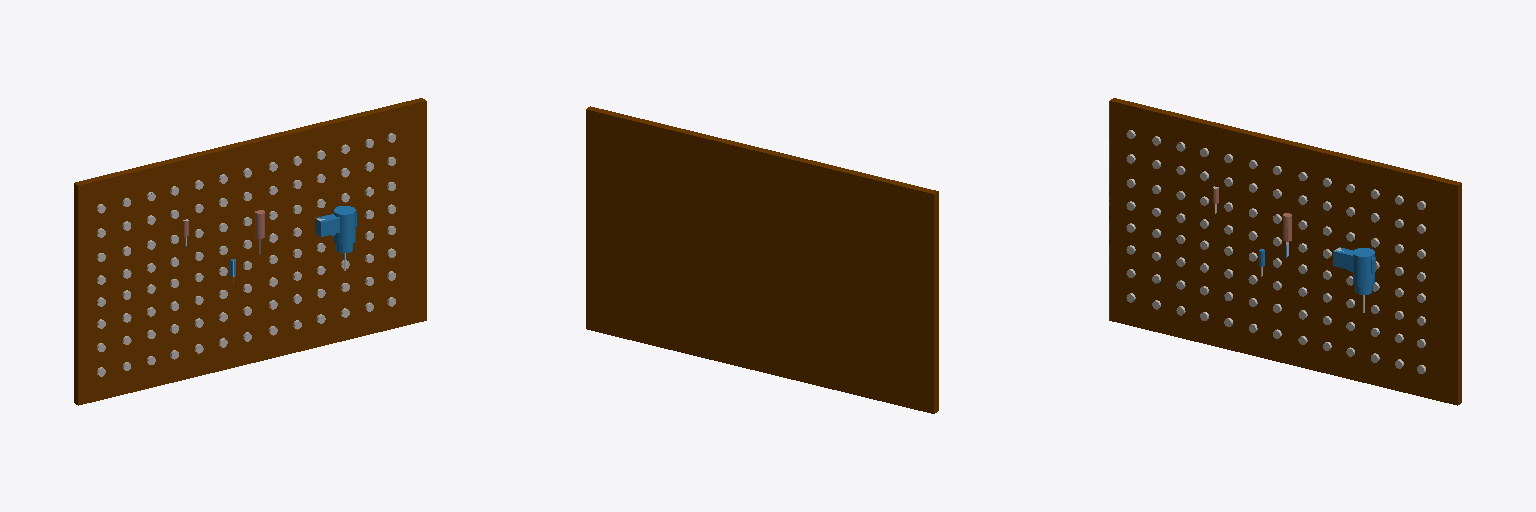
3 renders of one model, left to right at view 1: azimuth 30°, elevation 25°; view 2: azimuth 150°, elevation 25°; view 3: azimuth 330°, elevation 25°, orthographic.
Parts seen in each view (by area): view 1: Cilindro.006_Cilindro.125; view 2: Cilindro.006_Cilindro.125; view 3: Cilindro.006_Cilindro.125.
Boxes of the visible parts, box(x1,y1,x2,y2) form: Cilindro.006_Cilindro.125: box(74, 98, 426, 405); Cilindro.006_Cilindro.125: box(586, 106, 938, 413); Cilindro.006_Cilindro.125: box(1109, 98, 1461, 405).
Bounding box in the file's own units: 23.04 × 13.9 × 1.83.
1 materials, 1 textured.